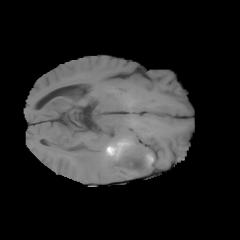glioma: (71, 132, 155, 178)
